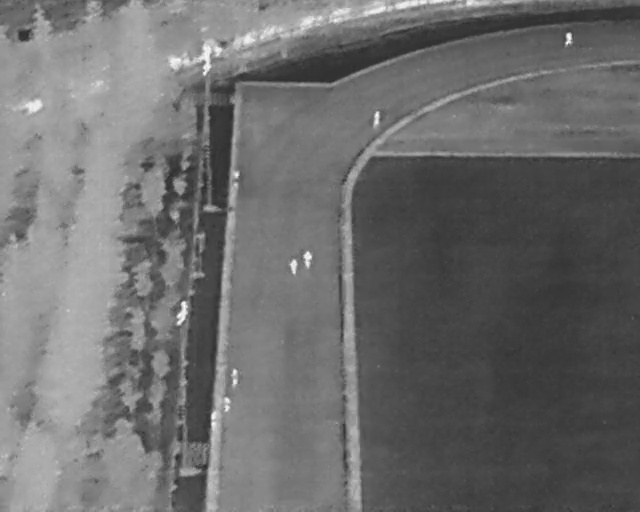Person: (303, 249, 313, 270), (211, 409, 219, 431), (289, 257, 298, 276), (373, 108, 380, 129), (565, 29, 573, 46), (232, 367, 239, 386), (223, 396, 231, 412), (233, 168, 239, 189)
